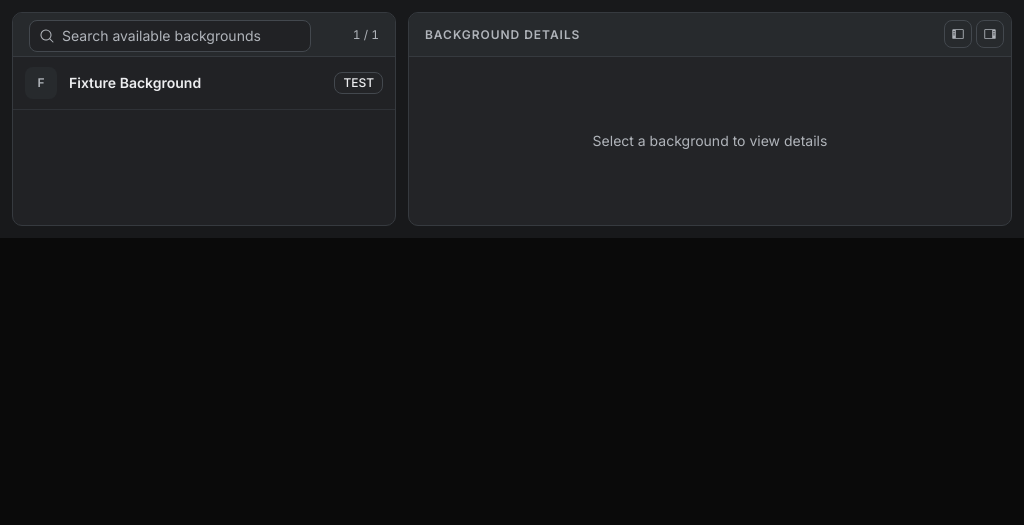
Test: BackgroundPage › selects a 2024 background without forcing fixed-feat configuration
Click the button "F Fixture Background".
click(174, 83)  # box [25, 67, 322, 99]
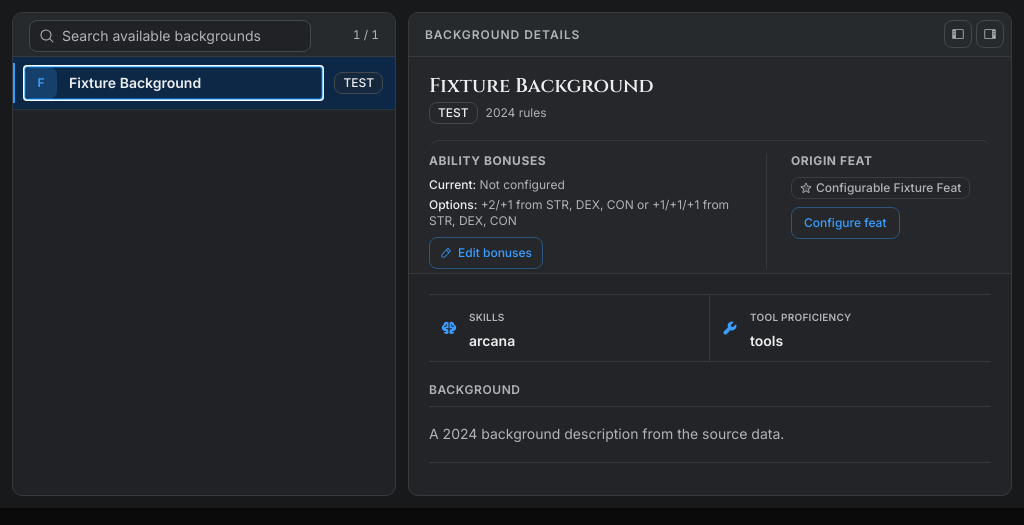
Check: the text "Not configured" is shown, box [480, 177, 565, 192]
Check: the text "+1/+1/+1 from STR, DEX, CON" is shown, box [429, 197, 729, 228]
Check: the text "Origin Feat" is shown once, box [791, 153, 873, 168]
